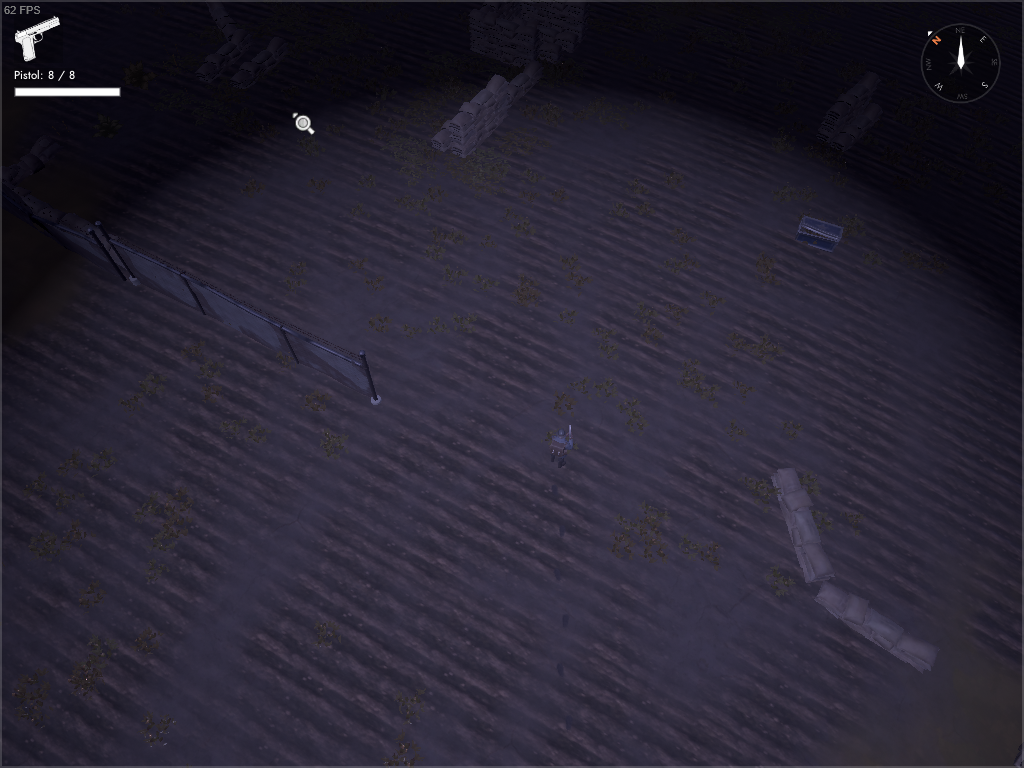fence: (93, 214, 384, 409), (1, 191, 127, 287)
player: (545, 421, 577, 470)
sandbag: (808, 576, 942, 678), (765, 463, 837, 586), (430, 74, 511, 156), (814, 70, 889, 154), (464, 7, 546, 77), (191, 28, 262, 90), (523, 1, 592, 58), (227, 37, 294, 94), (1, 129, 66, 185), (1, 169, 64, 226), (484, 58, 548, 113), (57, 210, 123, 252), (201, 1, 253, 50)
storage_box: (792, 213, 845, 256)
